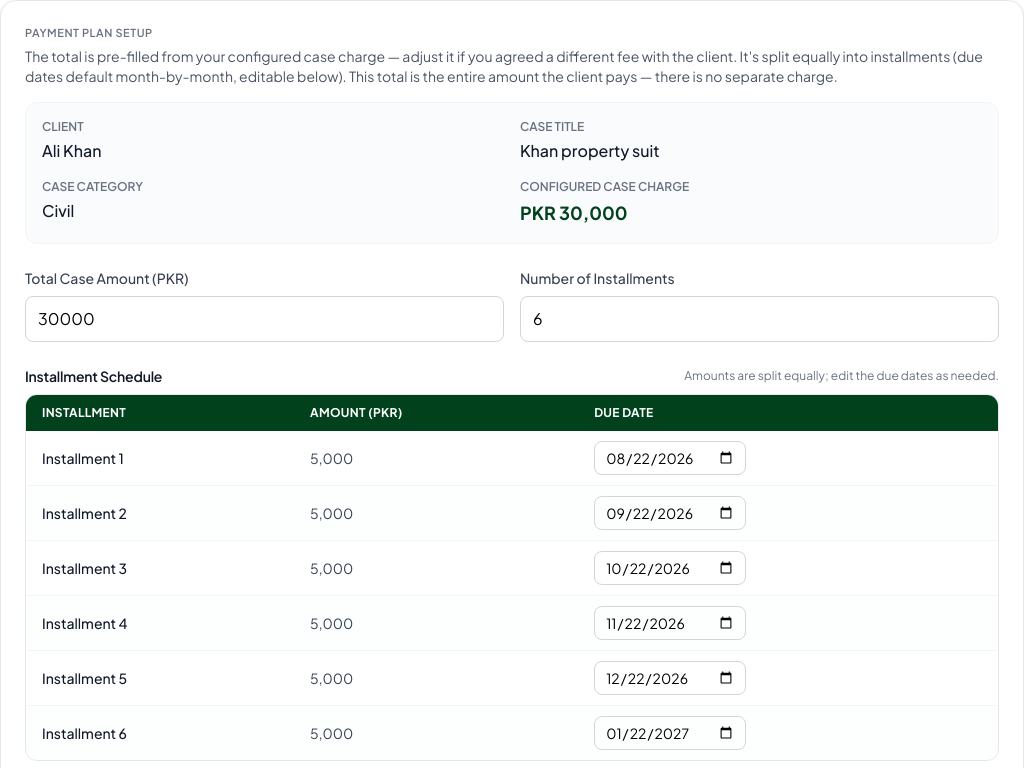
it: PaymentPlanSetup › previews an equal split whose last installment absorbs the remainder
The width and height of the screenshot is (1024, 768).
Expected: the text "Total Case Amount (PKR)" is shown, [25,268,188,286]
Replace the text in the number field below "Total Case Amount (PKR)" with "10000" at (264, 318), box [25,296,504,342]
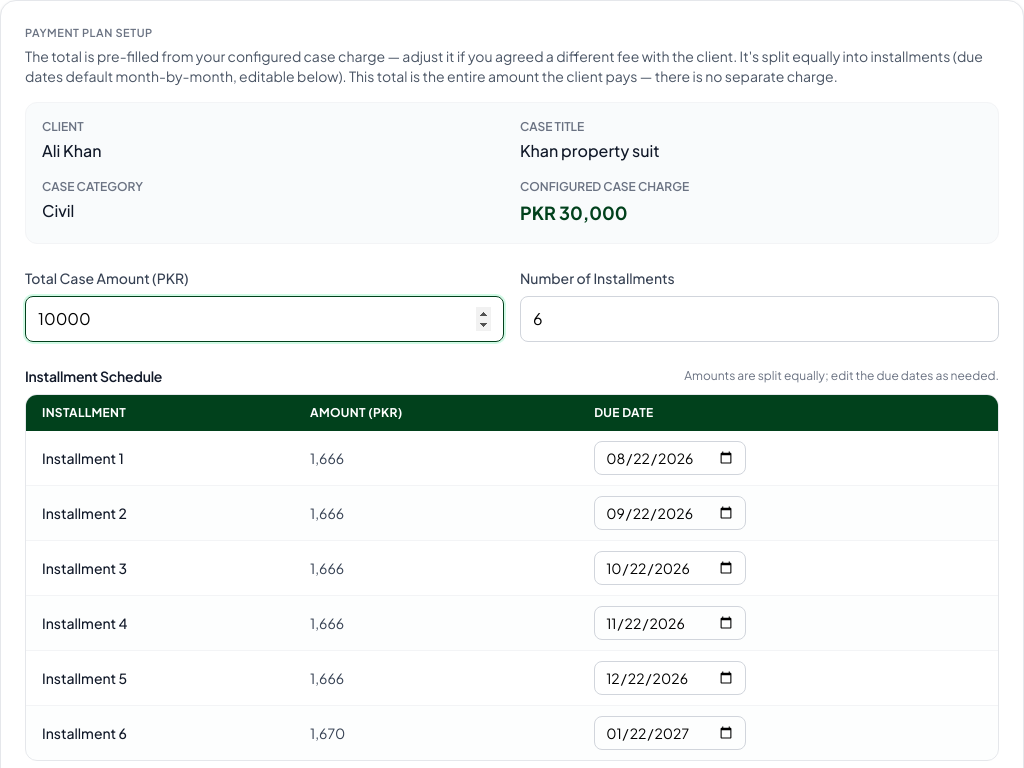
Replace the text in the number field below "Number of Installments" with "3" at (760, 318), box [520,296,999,342]
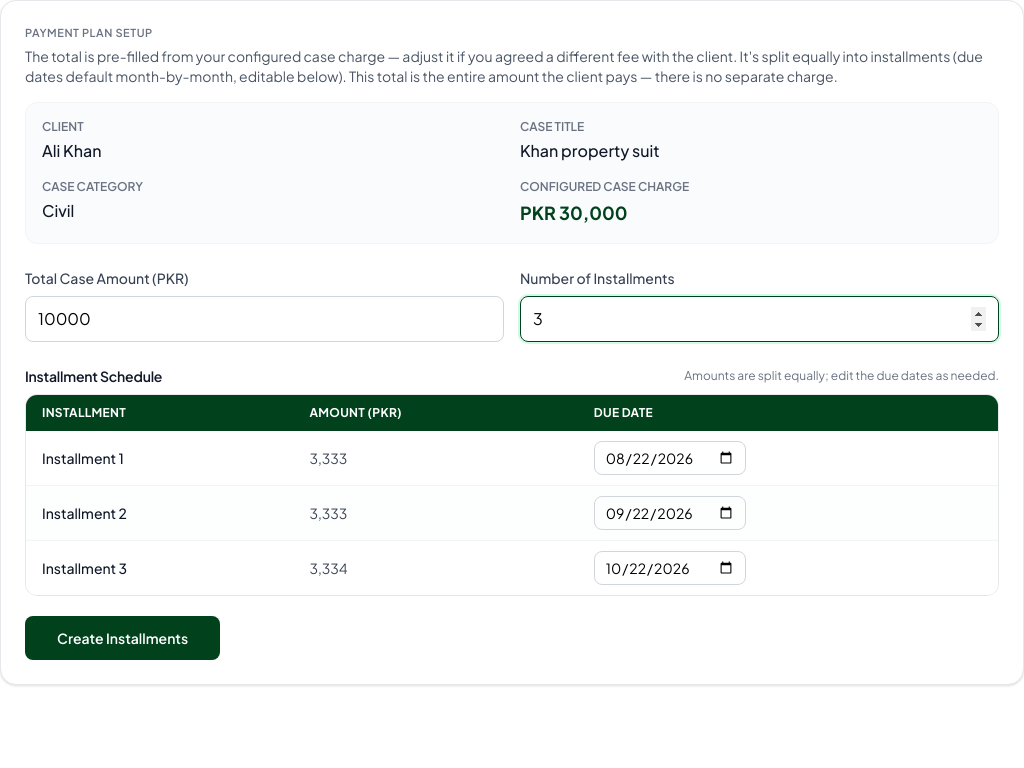
Expected: the text "3,333" is shown, [294,430,578,485]
Expected: the text "3,334" is shown, [294,540,578,594]
